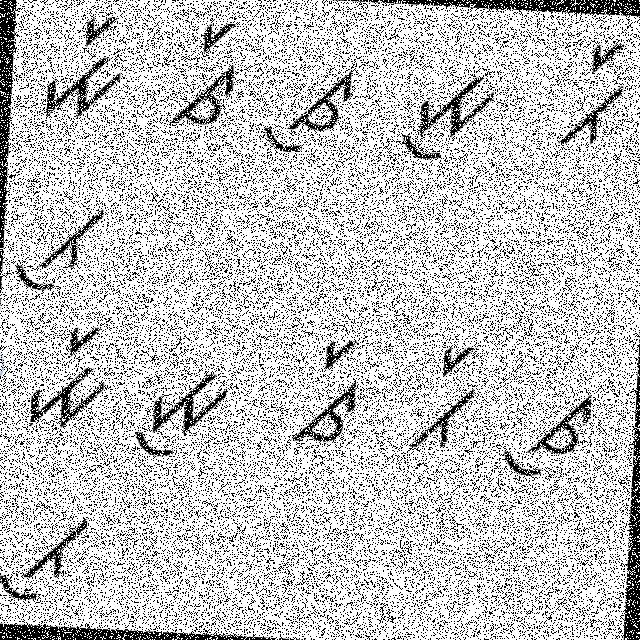bar: (550, 34, 635, 157), (402, 338, 486, 456)
baw: (6, 190, 108, 296), (0, 500, 94, 609)
car: (288, 328, 377, 452), (167, 15, 250, 132)
caw: (494, 362, 599, 484), (258, 57, 356, 160)
mar: (19, 309, 115, 434), (32, 13, 130, 121)
maw: (122, 358, 237, 467), (390, 61, 503, 168)
